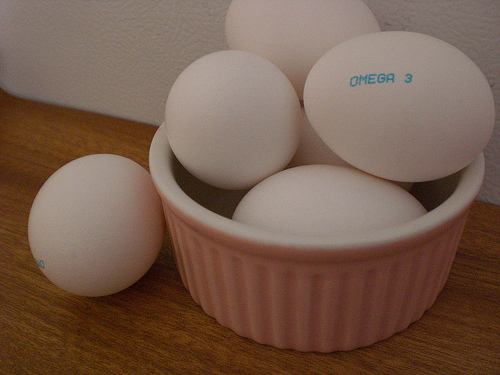egg: (161, 47, 303, 192)
